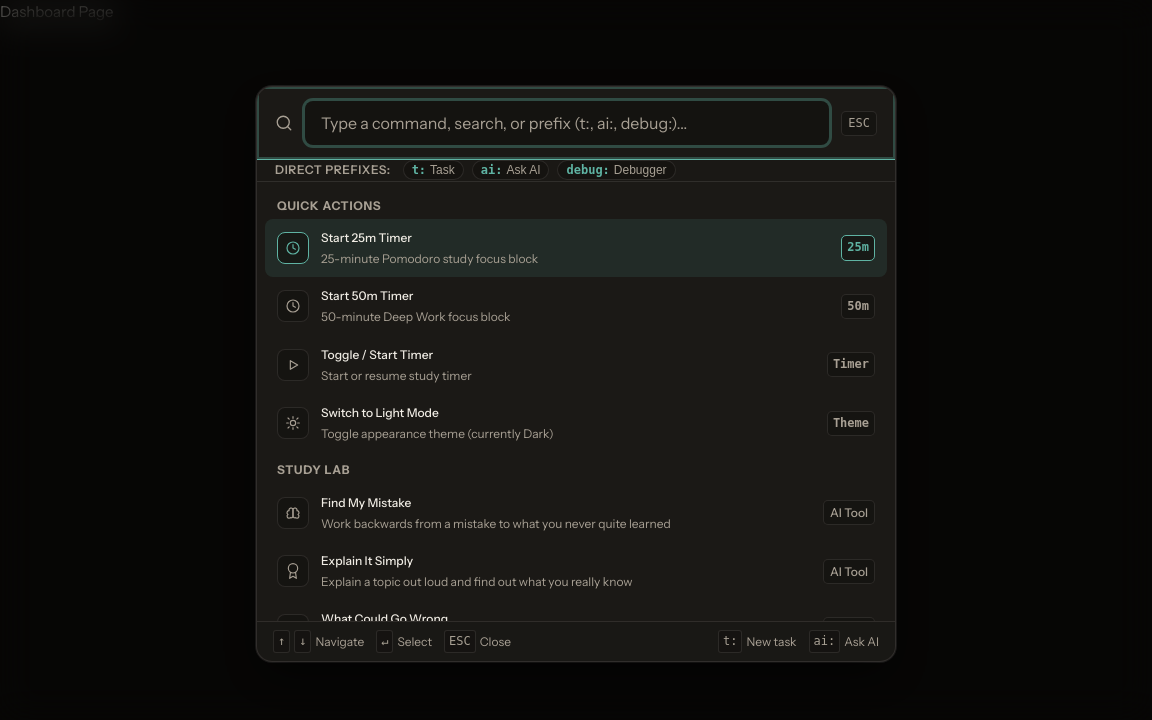
Test: CommandPalette › filters items by search query and shows matching subjects/materials/decks
Type "Molecular" into the field with placeholder "Type a command, search, or prefix (t:, ai:, debug:)...".
click(567, 123); type("Molecular")  # box [305,101,829,145]
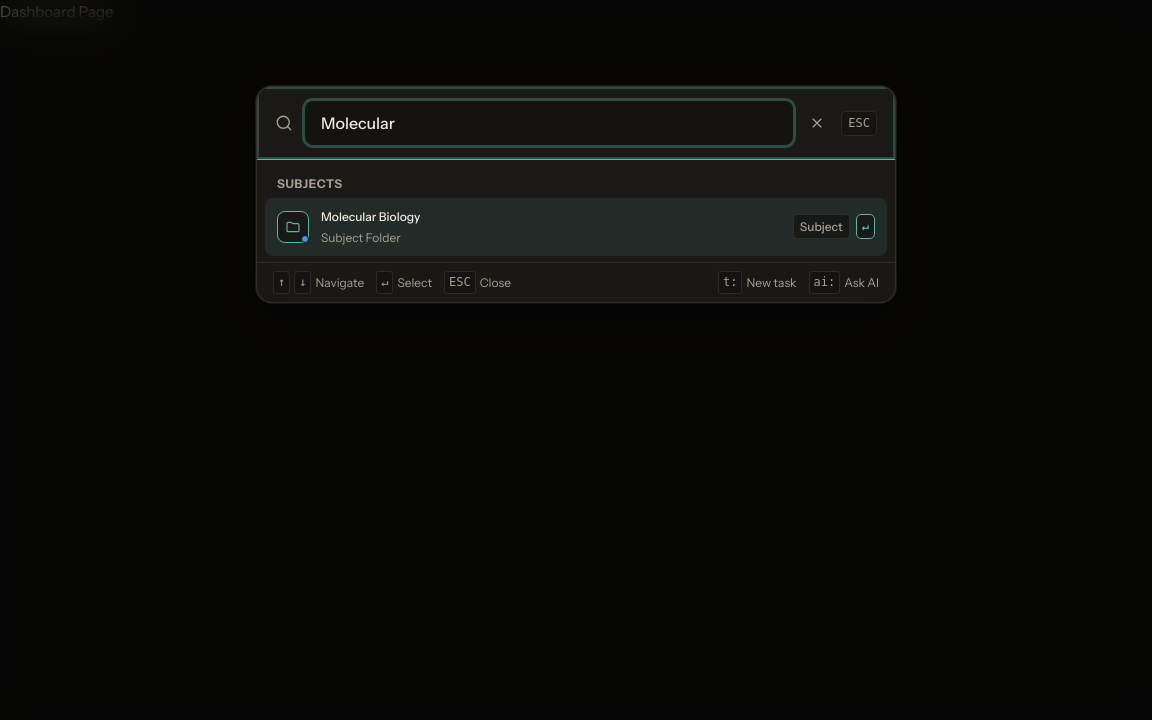
Result: the text "Molecular Biology" is shown at [321,209,420,224]
